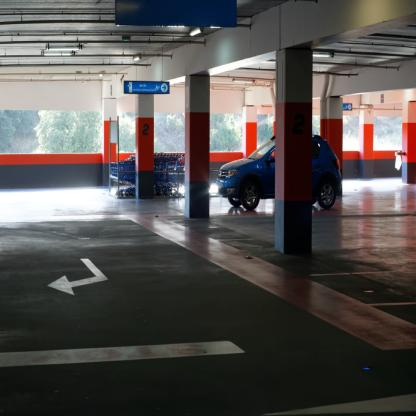Car: (218, 132, 342, 217)
